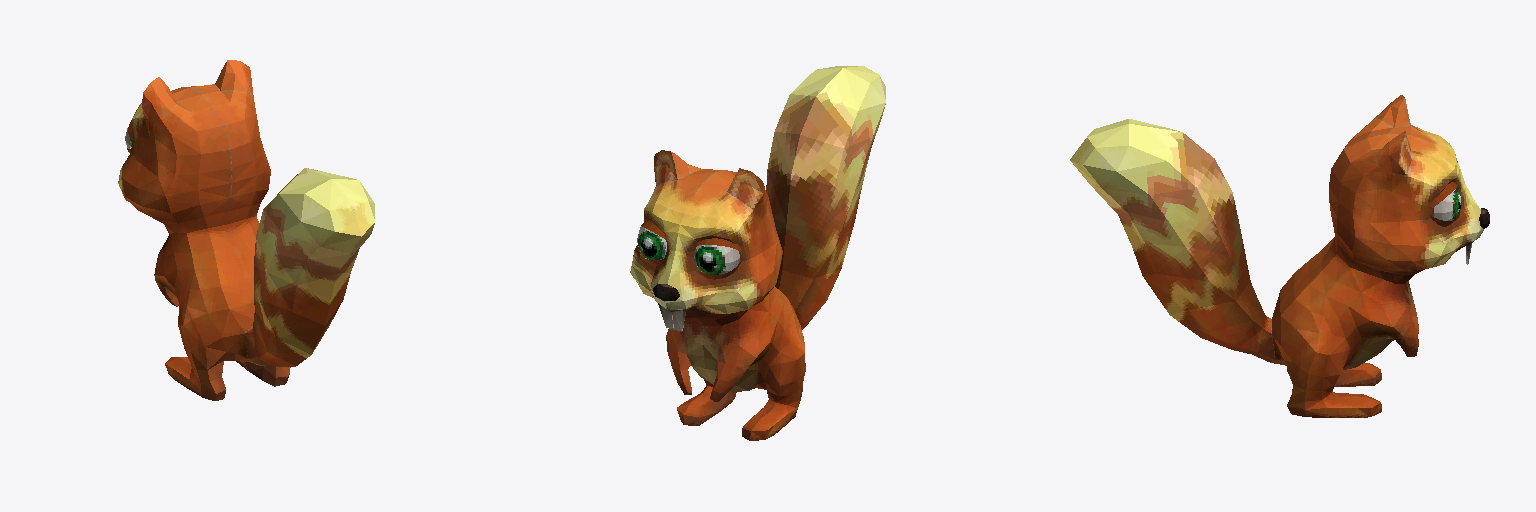
3 views of the same model, side by side, from view 1: azimuth 30°, elevation 25°; view 2: azimuth 150°, elevation 25°; view 3: azimuth 270°, elevation 25° (orthographic).
Parts seen in each view (by area): view 1: Object0012, Object0012.001, Object0012.002, Object0012.003; view 2: Object0012, Object0012.001, Object0012.002, Object0012.003; view 3: Object0012, Object0012.001, Object0012.003, Object0012.002.
Boxes of the visible parts, x1,y1,x2,y2 form: Object0012: [118, 60, 270, 381]; Object0012.001: [245, 168, 374, 366]; Object0012.002: [165, 357, 225, 400]; Object0012.003: [236, 361, 290, 386]; Object0012: [630, 150, 805, 404]; Object0012.001: [766, 66, 885, 329]; Object0012.002: [742, 391, 802, 440]; Object0012.003: [677, 386, 736, 425]; Object0012: [1271, 95, 1489, 401]; Object0012.001: [1070, 119, 1275, 362]; Object0012.003: [1287, 391, 1381, 417]; Object0012.002: [1287, 363, 1381, 386].
Bounding box in the file's own units: 0.331 × 0.7057 × 0.947.
1 materials, 1 textured.